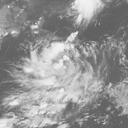cyclone: (33, 42, 87, 92)
